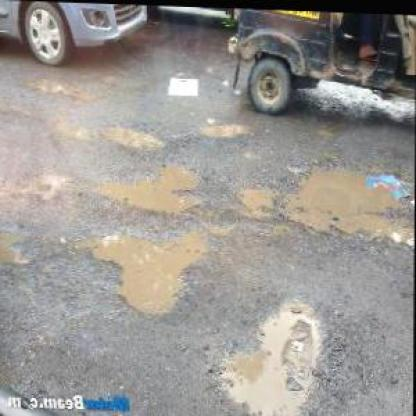pothole: (215, 283, 334, 414), (90, 218, 212, 319), (91, 155, 204, 212), (101, 118, 164, 148), (236, 178, 278, 216), (0, 224, 33, 270), (197, 115, 251, 139)
